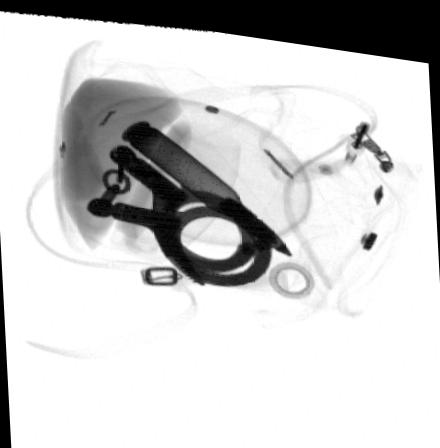Bullet: (118, 110, 294, 251)
HandCuffs: (83, 141, 273, 283)
